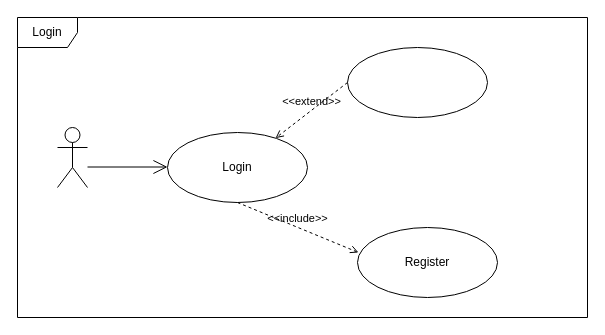
Image size: 605x335. Some labels were removed from this diagram. The shapes that lost their labels are listed below. From the top down, each one's centre as x and y in pixels, then its label:
At (417,82): "Remember me".
At (72,157): "User".
